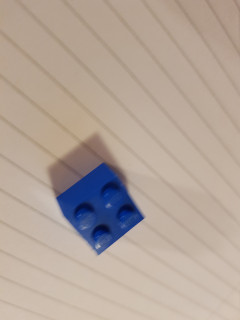2x2 blue: (55, 161, 146, 257)
